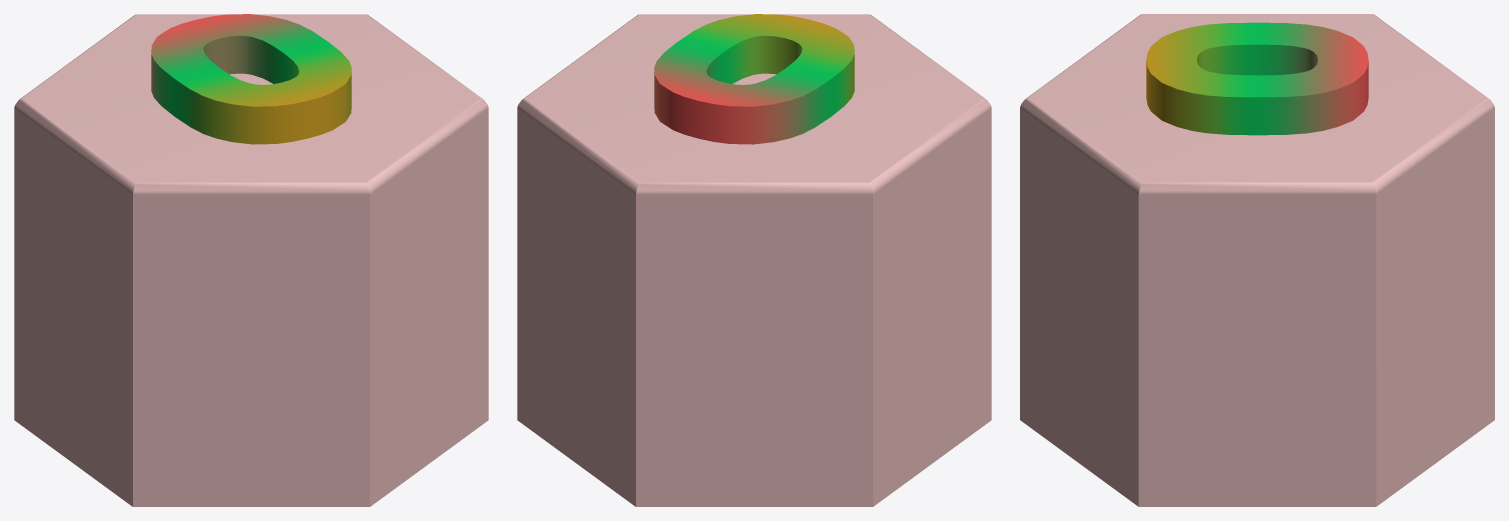
The model's file is basiccenter.fbx.
3 renders of one model, left to right at view 1: azimuth 30°, elevation 25°; view 2: azimuth 150°, elevation 25°; view 3: azimuth 270°, elevation 25°, orthographic.
Visible parts, largest first — view 1: cubewhite, zero; view 2: cubewhite, zero; view 3: cubewhite, zero.
Part boxes in pixels (x1,y1,x2,y2): cubewhite: (14,14,488,506); zero: (151,14,351,144); cubewhite: (517,14,991,506); zero: (654,14,854,144); cubewhite: (1020,14,1494,506); zero: (1146,22,1368,135).
Size of the model in its own units: 3.66 by 3.54 by 4.23.
